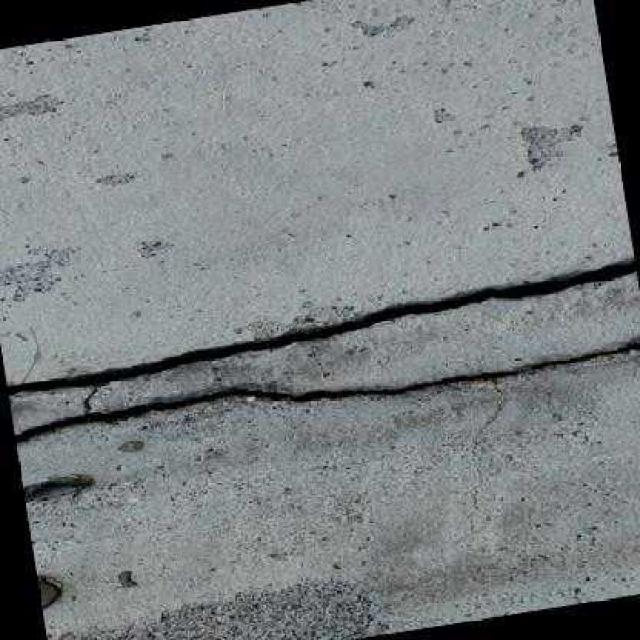D00: (14, 340, 640, 530), (6, 258, 633, 402)
